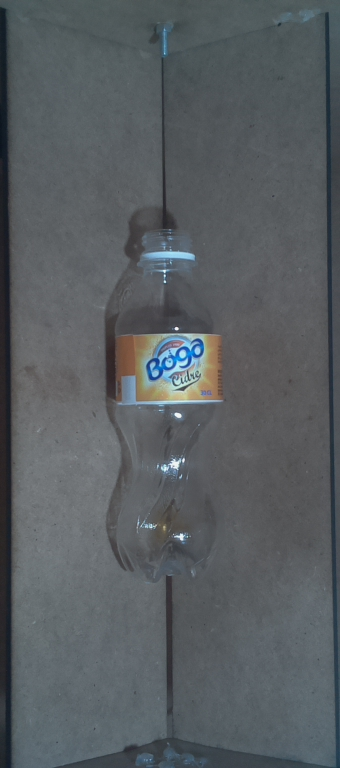Bouteille_0.3L: (104, 219, 229, 586)
